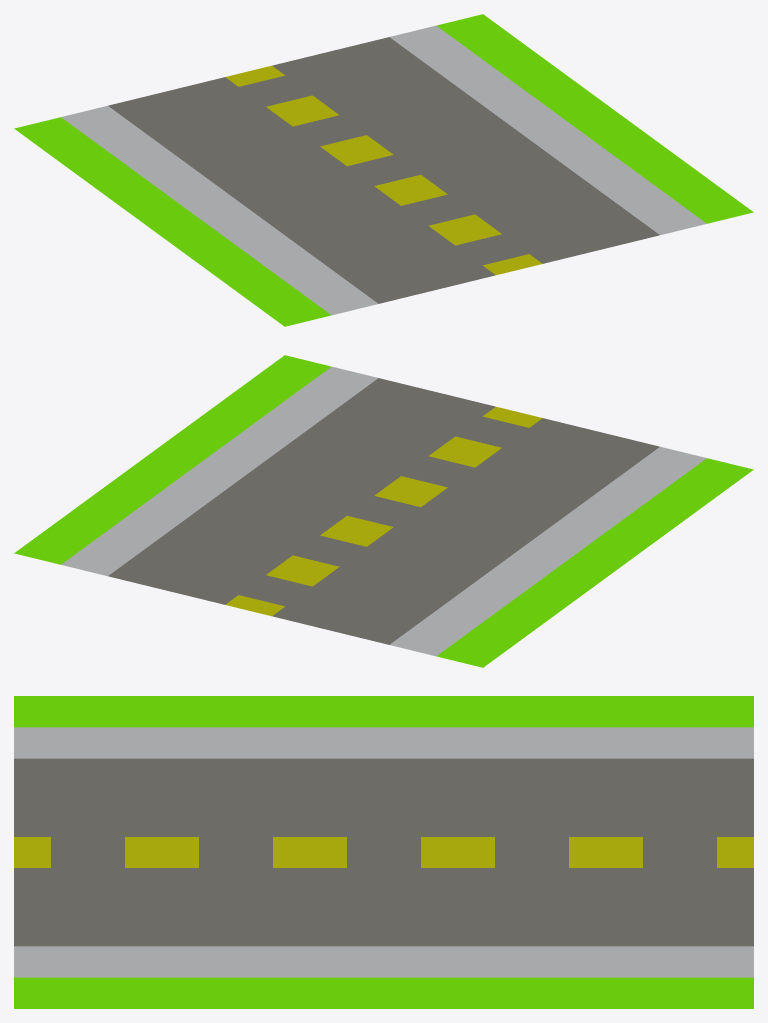
The model's file is Straight Road Tile.fbx.
The picture shows the model from 3 angles, top to bottom: view 1: azimuth 30°, elevation 25°; view 2: azimuth 150°, elevation 25°; view 3: azimuth 270°, elevation 25°; orthographic projection. The views are drawn at different scales.
Parts seen in each view (by area): view 1: Straight Road Tile; view 2: Straight Road Tile; view 3: Straight Road Tile.
Boxes of the visible parts, left/top/right/bottom form: Straight Road Tile: left=14, top=14, right=753, bottom=326; Straight Road Tile: left=14, top=355, right=753, bottom=667; Straight Road Tile: left=14, top=696, right=753, bottom=1008.
Bounding box in the file's own units: 1000 × 0.000163 × 1000.
